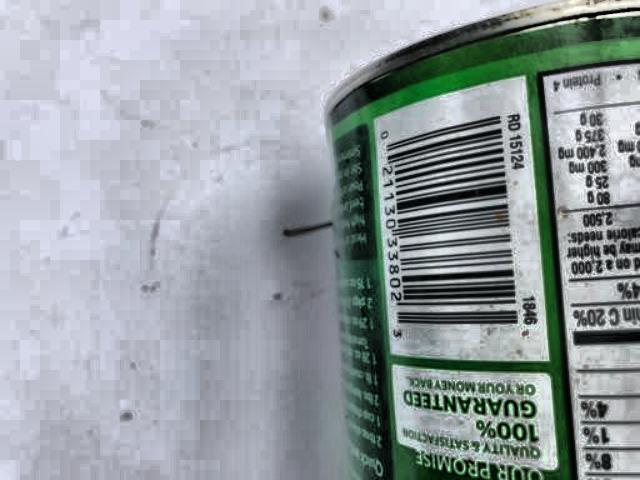Almennt: (250, 0, 640, 480)
